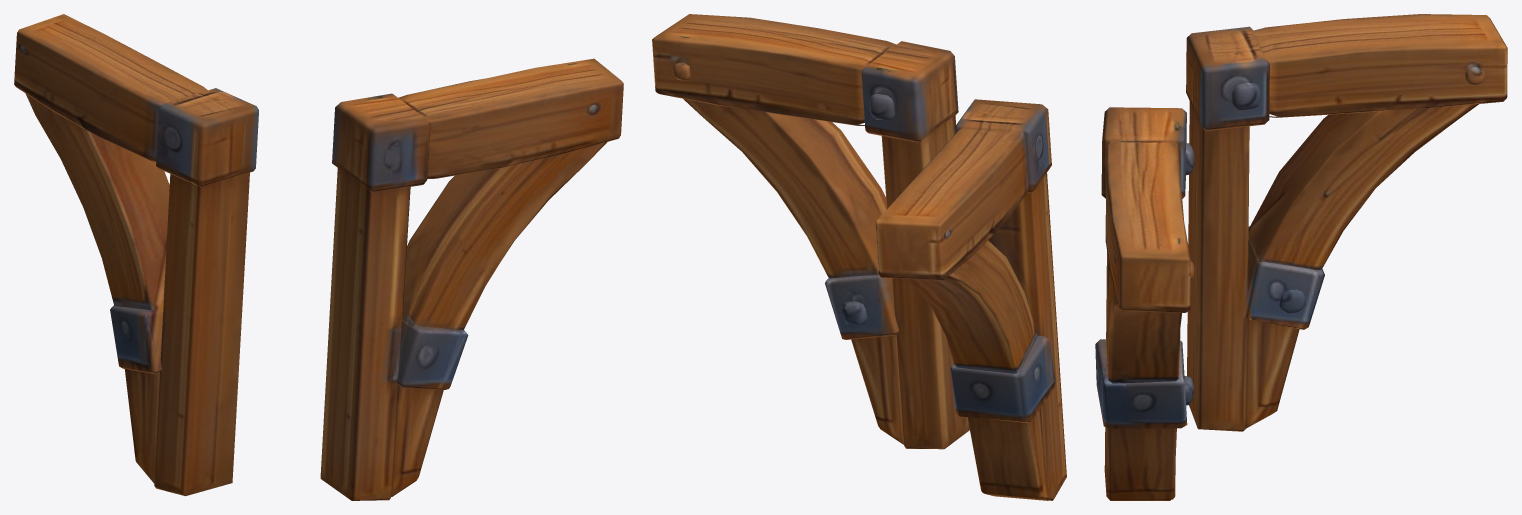
File: gallery_brackets.glb
3 renders of one model, left to right at view 1: azimuth 30°, elevation 25°; view 2: azimuth 150°, elevation 25°; view 3: azimuth 270°, elevation 25°, orthographic. The views are drawn at different scales.
Visible parts, largest first — view 1: bracket_a, bracket_b; view 2: bracket_a, bracket_b; view 3: bracket_b, bracket_a.
Boxes of the visible parts, left/top/right/bottom form: bracket_a: left=320, top=58, right=623, bottom=500; bracket_b: left=14, top=14, right=258, bottom=496; bracket_a: left=652, top=14, right=969, bottom=449; bracket_b: left=875, top=99, right=1066, bottom=500; bracket_b: left=1186, top=14, right=1507, bottom=431; bracket_a: left=1095, top=107, right=1194, bottom=500.
Size of the model in its own units: 1.07 by 0.9 by 0.8513.
1 material, 1 textured.
